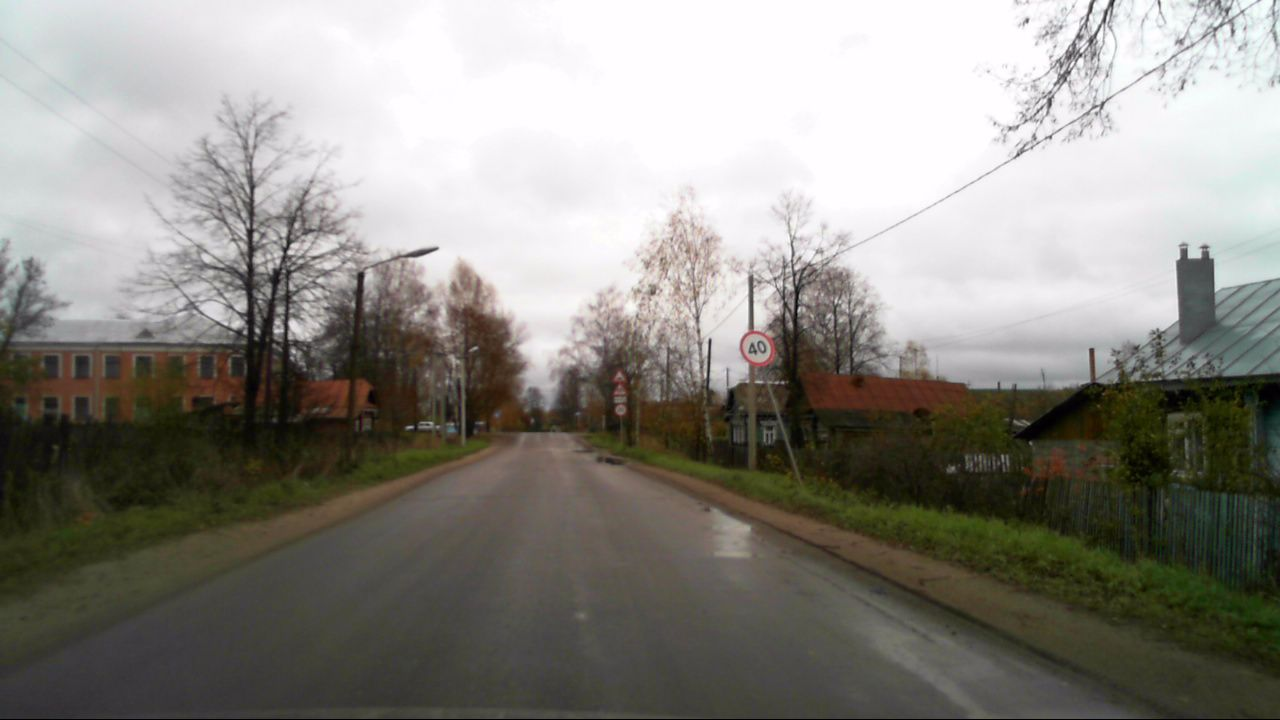speed_warning_40: (739, 330, 776, 367)
